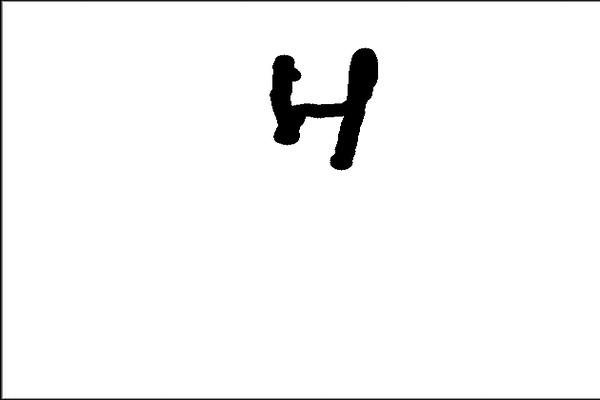H: (263, 39, 379, 175)
